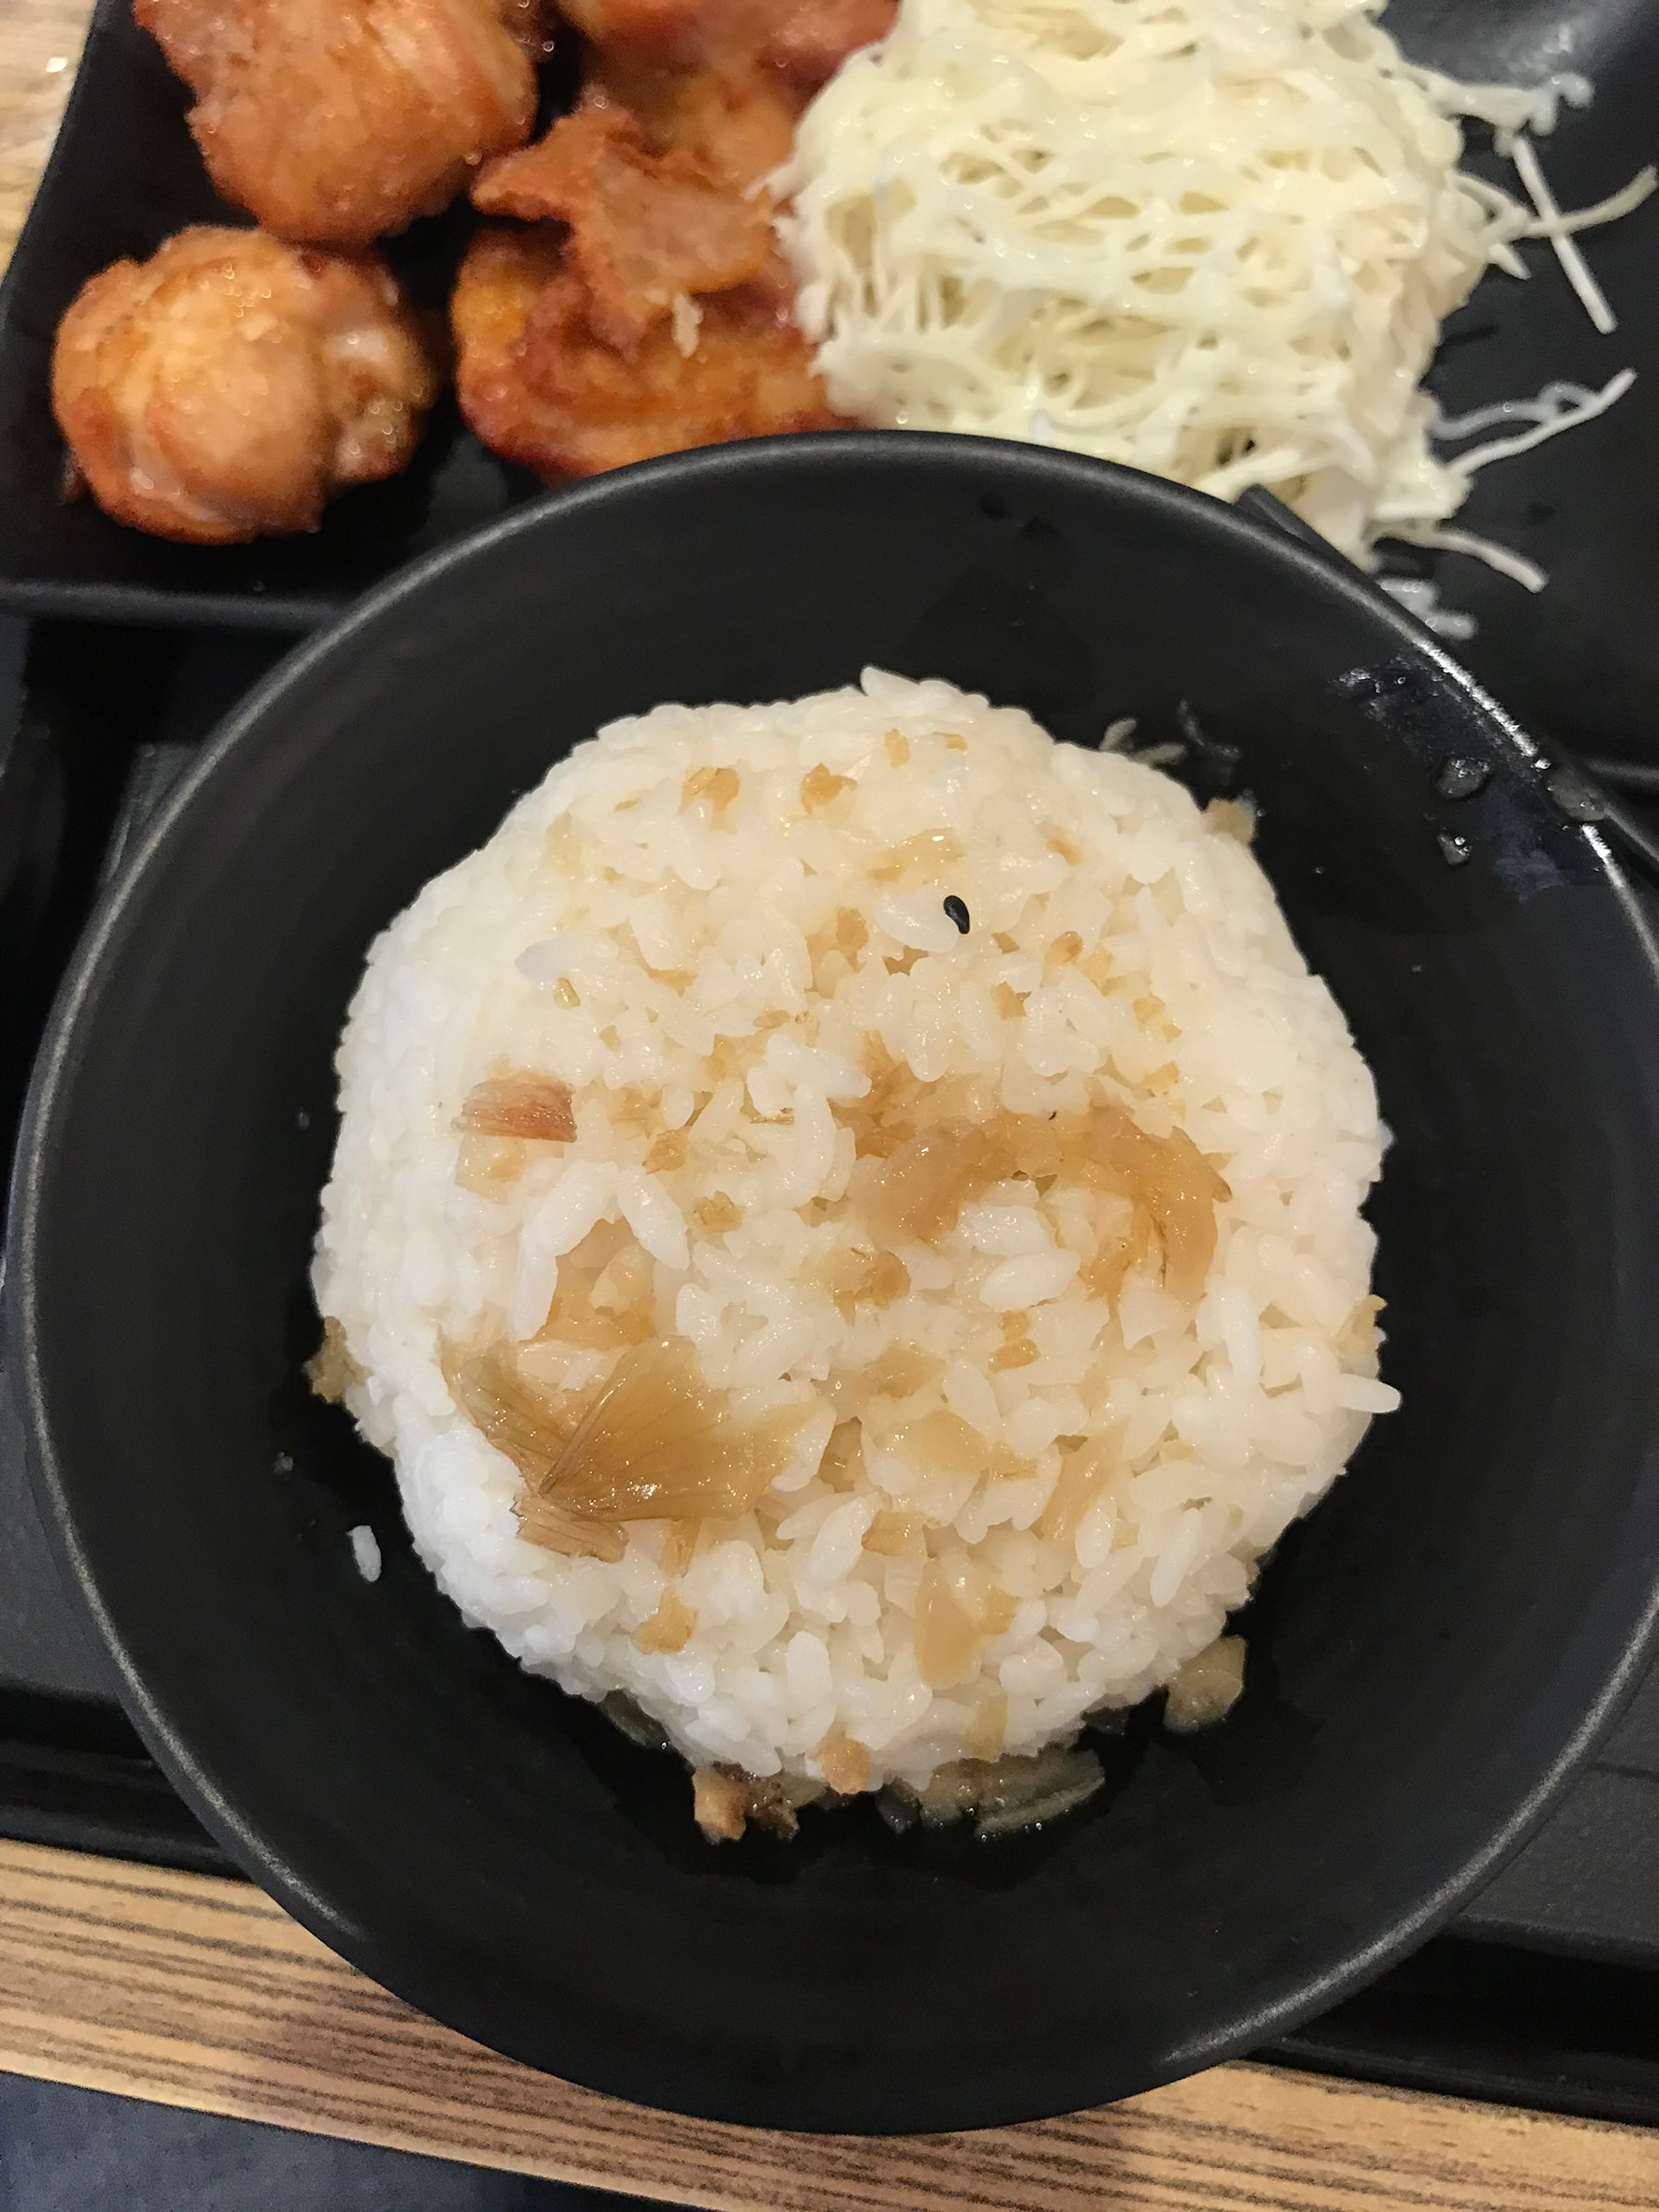rice: (279, 669, 1403, 1881)
